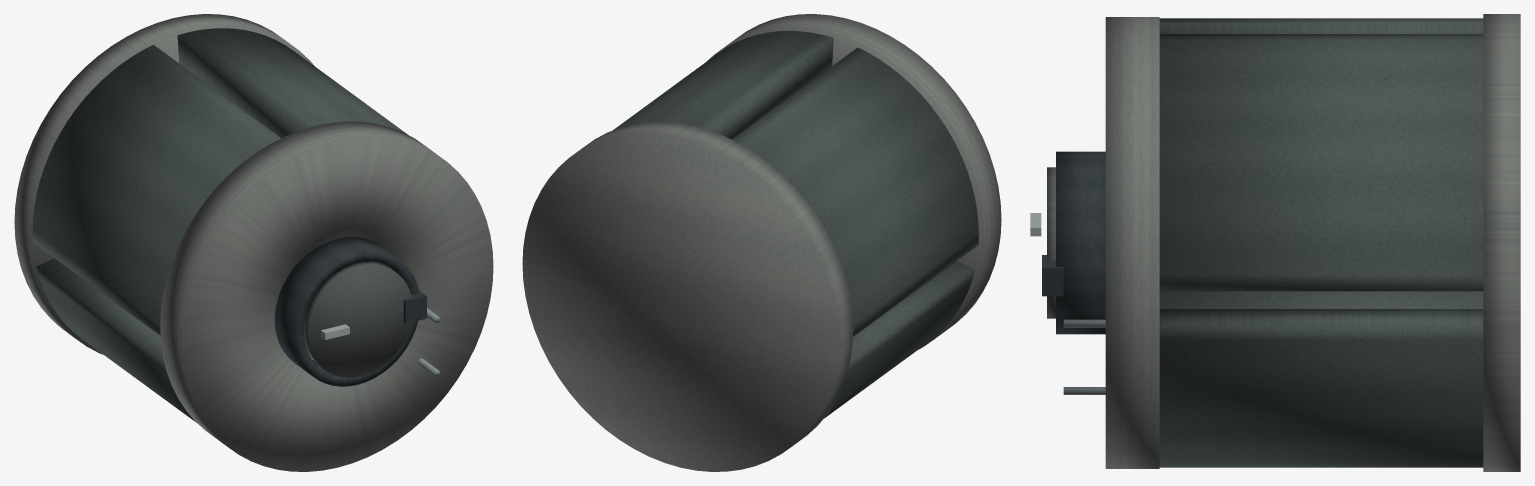
File: PZ_WWT_03_Inspection_Chamber_3m.glb
3 views of the same model, side by side, from view 1: azimuth 30°, elevation 25°; view 2: azimuth 150°, elevation 25°; view 3: azimuth 270°, elevation 25° (orthographic). The views are drawn at different scales.
Visible parts, largest first — view 1: CHM_Top_Crown_Ring, CHM_Wall_Sector_03, CHM_Wall_Sector_02, CHM_Base_Slab, CHM_Hinged_Cover_MOVABLE_PIVOT, CHM_Wall_Sector_04, CHM_Manhole_Throat, CHM_Lid_HingeBar; view 2: CHM_Base_Slab, CHM_Wall_Sector_03, CHM_Wall_Sector_02, CHM_Top_Crown_Ring, CHM_Wall_Sector_04; view 3: CHM_Wall_Sector_02, CHM_Wall_Sector_01, CHM_Top_Crown_Ring, CHM_Base_Slab, CHM_Manhole_Throat, CHM_Wall_Sector_04, CHM_Wall_Sector_03, CHM_Hinged_Cover_MOVABLE_PIVOT, CHM_Lid_HingeBar.
Boxes of the visible parts, x1=… form: CHM_Top_Crown_Ring: x1=160, y1=121, x2=493, y2=471; CHM_Wall_Sector_03: x1=32, y1=45, x2=281, y2=335; CHM_Wall_Sector_02: x1=177, y1=28, x2=407, y2=138; CHM_Base_Slab: x1=14, y1=14, x2=314, y2=354; CHM_Hinged_Cover_MOVABLE_PIVOT: x1=304, y1=262, x2=411, y2=377; CHM_Wall_Sector_04: x1=36, y1=258, x2=197, y2=423; CHM_Manhole_Throat: x1=274, y1=237, x2=419, y2=386; CHM_Lid_HingeBar: x1=403, y1=290, x2=426, y2=323; CHM_Base_Slab: x1=522, y1=121, x2=853, y2=471; CHM_Wall_Sector_03: x1=732, y1=47, x2=978, y2=336; CHM_Wall_Sector_02: x1=613, y1=31, x2=833, y2=139; CHM_Top_Crown_Ring: x1=707, y1=14, x2=1001, y2=349; CHM_Wall_Sector_04: x1=824, y1=261, x2=974, y2=418; CHM_Wall_Sector_02: x1=1159, y1=34, x2=1483, y2=291; CHM_Wall_Sector_01: x1=1159, y1=309, x2=1483, y2=467; CHM_Top_Crown_Ring: x1=1105, y1=17, x2=1159, y2=468; CHM_Base_Slab: x1=1483, y1=14, x2=1520, y2=471; CHM_Manhole_Throat: x1=1056, y1=151, x2=1105, y2=334; CHM_Wall_Sector_04: x1=1159, y1=291, x2=1483, y2=308; CHM_Wall_Sector_03: x1=1159, y1=18, x2=1483, y2=33; CHM_Hinged_Cover_MOVABLE_PIVOT: x1=1047, y1=167, x2=1055, y2=318; CHM_Lid_HingeBar: x1=1042, y1=255, x2=1063, y2=296.
Bounding box in the file's own units: 2.96 × 2.96 × 3.16.
1 material, 1 textured.
